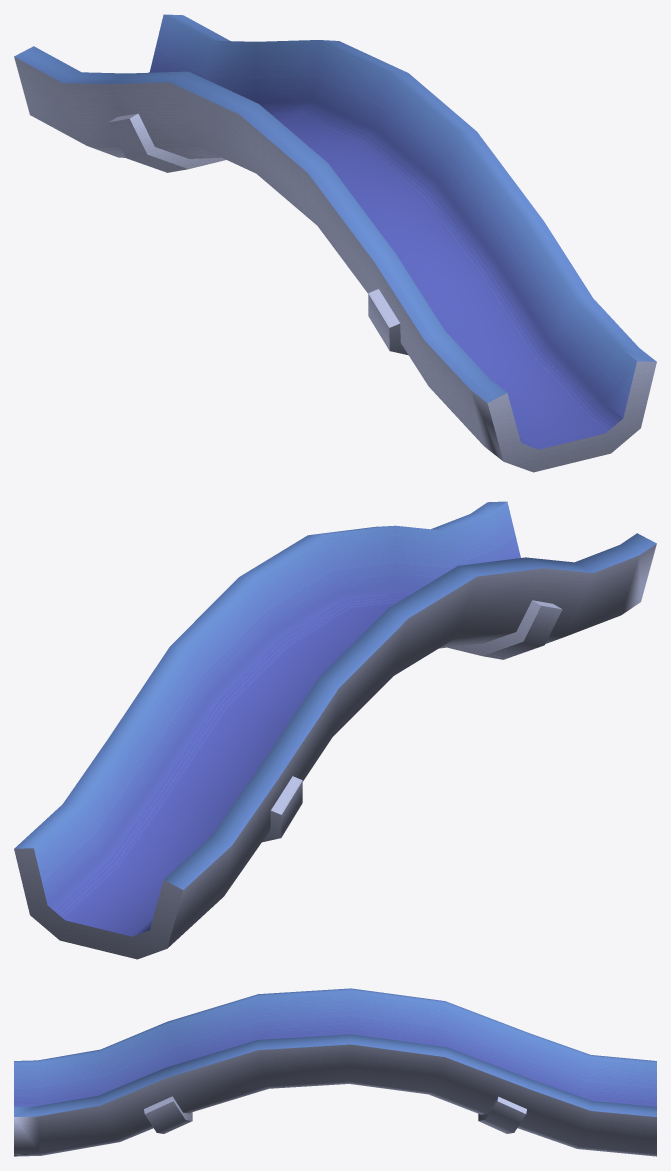
The model's file is coaster-flume-straight-bump-up.glb.
3 views of the same model, one above another, from view 1: azimuth 30°, elevation 25°; view 2: azimuth 150°, elevation 25°; view 3: azimuth 270°, elevation 25° (orthographic). The views are drawn at different scales.
Parts seen in each view (by area): view 1: coaster-flume-straight-bump-up; view 2: coaster-flume-straight-bump-up; view 3: coaster-flume-straight-bump-up.
Boxes of the visible parts, x1,y1,x2,y2 form: coaster-flume-straight-bump-up: [14, 14, 656, 472]; coaster-flume-straight-bump-up: [14, 501, 656, 959]; coaster-flume-straight-bump-up: [14, 988, 656, 1156].
Size of the model in its own units: 2.53 by 2.7 by 12.
Materials: 1 (1 with a texture image).
